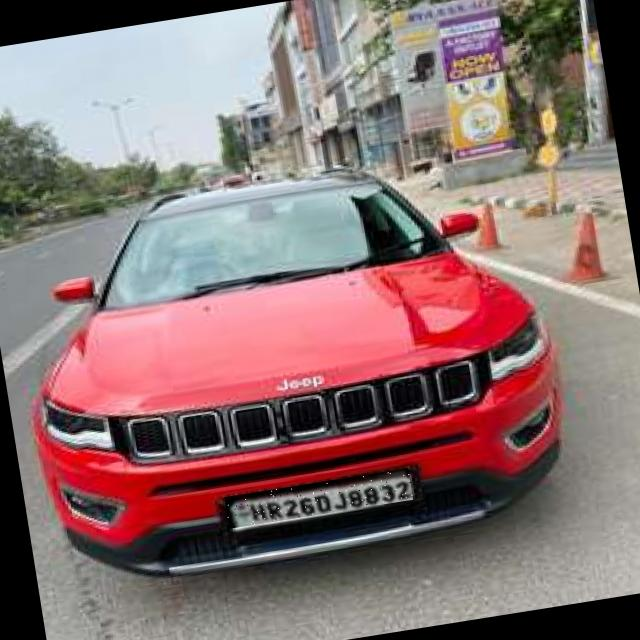Plate: (226, 469, 415, 530)
